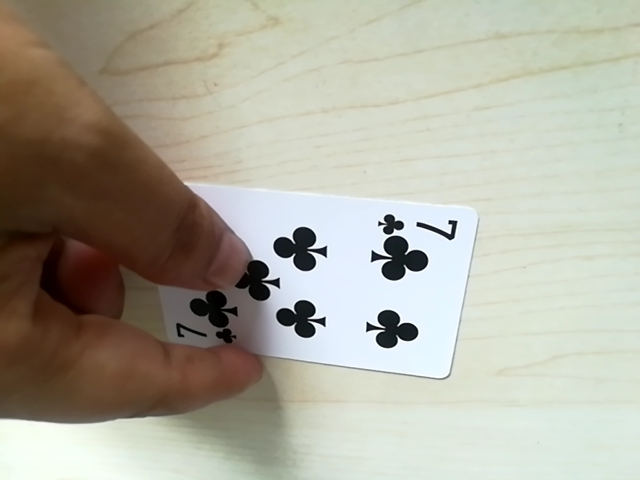mh 7: (172, 303, 243, 346), (387, 209, 455, 236)
